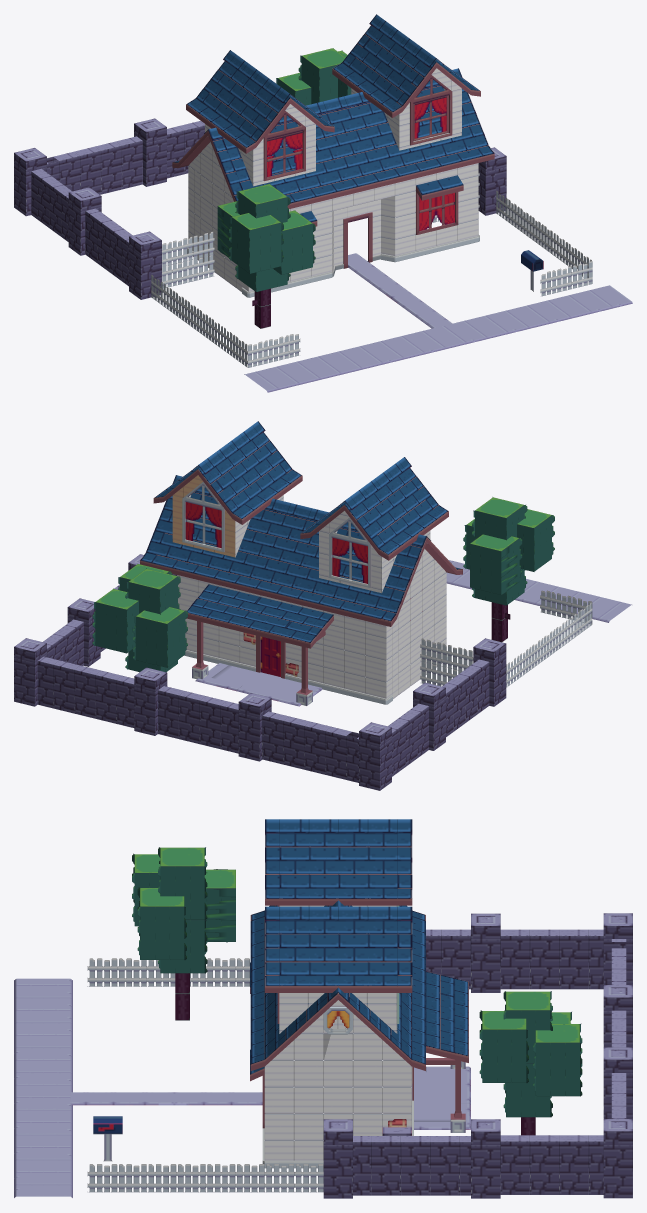
Rendered from house3.fbx.
3 renders of one model, top to bottom at view 1: azimuth 30°, elevation 25°; view 2: azimuth 150°, elevation 25°; view 3: azimuth 270°, elevation 25°, orthographic. The views are drawn at different scales.
Visible parts, largest first — view 1: Cube.011; view 2: Cube.011; view 3: Cube.011.
Boxes of the visible parts, box(x1,y1,x2,y2) form: Cube.011: box(14, 14, 632, 392); Cube.011: box(14, 421, 631, 790); Cube.011: box(14, 819, 632, 1198).
Bounding box in the file's own units: 876 × 441 × 1050.
